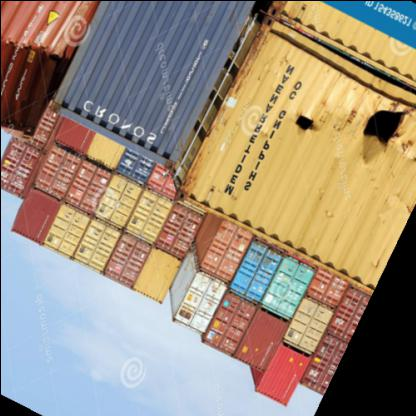Damage: (13, 47, 74, 117), (348, 96, 413, 158), (278, 98, 330, 148)
